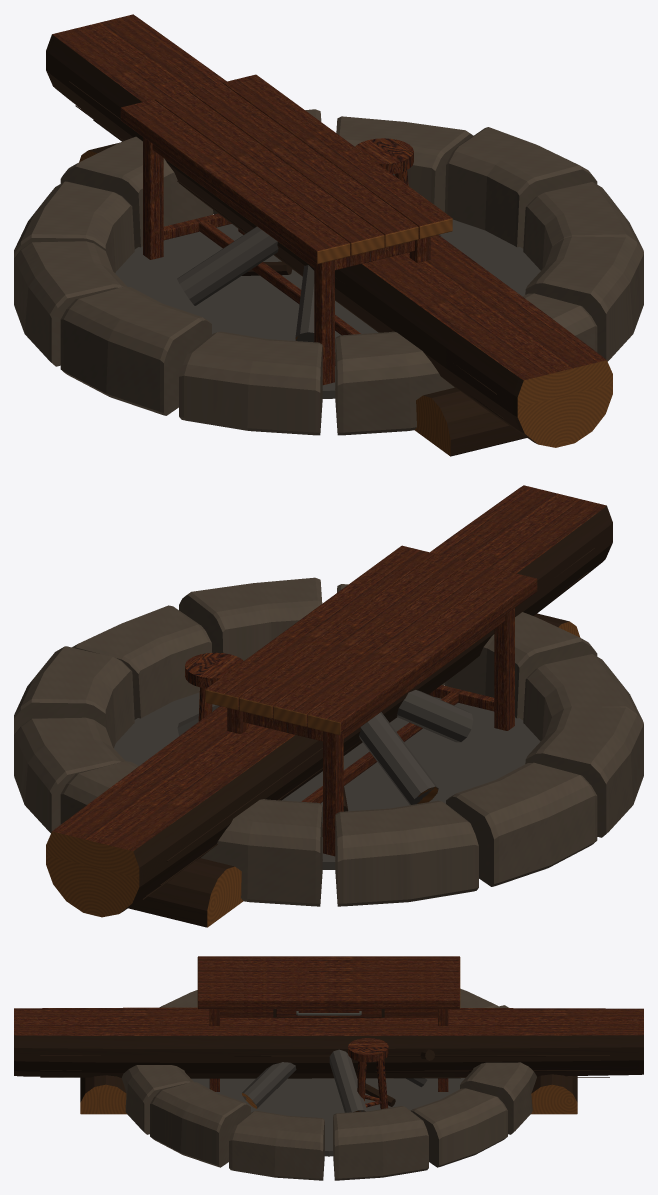
Rendered from camp-props-v1.glb.
3 views of the same model, one above another, from view 1: azimuth 30°, elevation 25°; view 2: azimuth 150°, elevation 25°; view 3: azimuth 270°, elevation 25° (orthographic). The views are drawn at different scales.
Parts seen in each view (by area): view 1: C05 batch Camp sandstone | authored low contrast mineral, C07 batch Camp cut timber | shared photographed grain, C06 batch Camp cut timber | shared photographed grain, C06 batch Camp ridged bark | authored longitudinal response, C05 batch Camp ash and charred firewood, C06 batch Camp exposed end grain | authored cut rings, C07 batch Camp exposed end grain | authored cut rings; view 2: C05 batch Camp sandstone | authored low contrast mineral, C07 batch Camp cut timber | shared photographed grain, C06 batch Camp cut timber | shared photographed grain, C06 batch Camp ridged bark | authored longitudinal response, C05 batch Camp ash and charred firewood, C06 batch Camp exposed end grain | authored cut rings, C07 batch Camp exposed end grain | authored cut rings; view 3: C05 batch Camp sandstone | authored low contrast mineral, C06 batch Camp ridged bark | authored longitudinal response, C07 batch Camp cut timber | shared photographed grain, C06 batch Camp cut timber | shared photographed grain, C05 batch Camp ash and charred firewood, C06 batch Camp exposed end grain | authored cut rings.
Boxes of the visible parts, bbox=[...] form: C05 batch Camp sandstone | authored low contrast mineral: bbox=[14, 109, 643, 435]; C07 batch Camp cut timber | shared photographed grain: bbox=[120, 74, 452, 385]; C06 batch Camp cut timber | shared photographed grain: bbox=[52, 14, 606, 380]; C06 batch Camp ridged bark | authored longitudinal response: bbox=[46, 34, 536, 456]; C05 batch Camp ash and charred firewood: bbox=[115, 219, 540, 398]; C06 batch Camp exposed end grain | authored cut rings: bbox=[79, 150, 612, 456]; C07 batch Camp exposed end grain | authored cut rings: bbox=[317, 218, 452, 263]; C05 batch Camp sandstone | authored low contrast mineral: bbox=[14, 577, 643, 906]; C07 batch Camp cut timber | shared photographed grain: bbox=[185, 545, 537, 856]; C06 batch Camp cut timber | shared photographed grain: bbox=[52, 485, 606, 851]; C06 batch Camp ridged bark | authored longitudinal response: bbox=[120, 506, 612, 927]; C05 batch Camp ash and charred firewood: bbox=[114, 690, 540, 869]; C06 batch Camp exposed end grain | authored cut rings: bbox=[46, 621, 580, 927]; C07 batch Camp exposed end grain | authored cut rings: bbox=[205, 689, 340, 735]; C05 batch Camp sandstone | authored low contrast mineral: bbox=[121, 988, 536, 1180]; C06 batch Camp ridged bark | authored longitudinal response: bbox=[14, 1035, 643, 1102]; C07 batch Camp cut timber | shared photographed grain: bbox=[198, 956, 459, 1109]; C06 batch Camp cut timber | shared photographed grain: bbox=[14, 1007, 643, 1035]; C05 batch Camp ash and charred firewood: bbox=[191, 1049, 464, 1156]; C06 batch Camp exposed end grain | authored cut rings: bbox=[80, 1084, 577, 1114].
Size of the model in its own units: 3.2 by 0.8523 by 4.8.
Materials: 6 (4 with a texture image).
